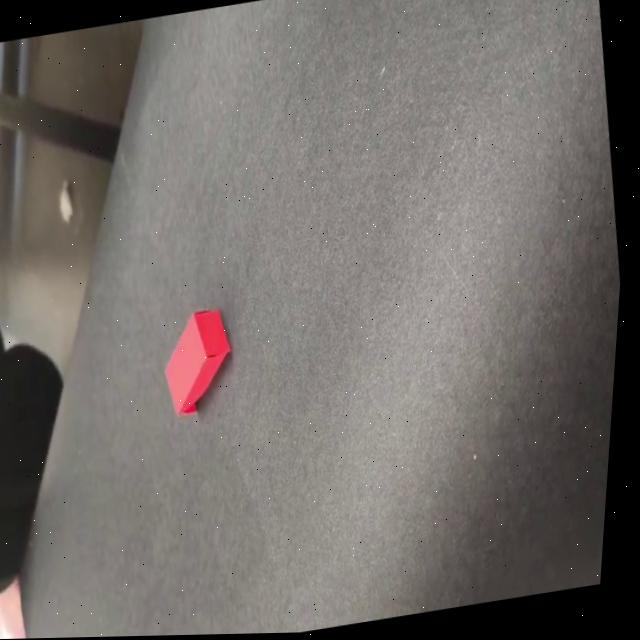red block: (153, 303, 242, 416)
